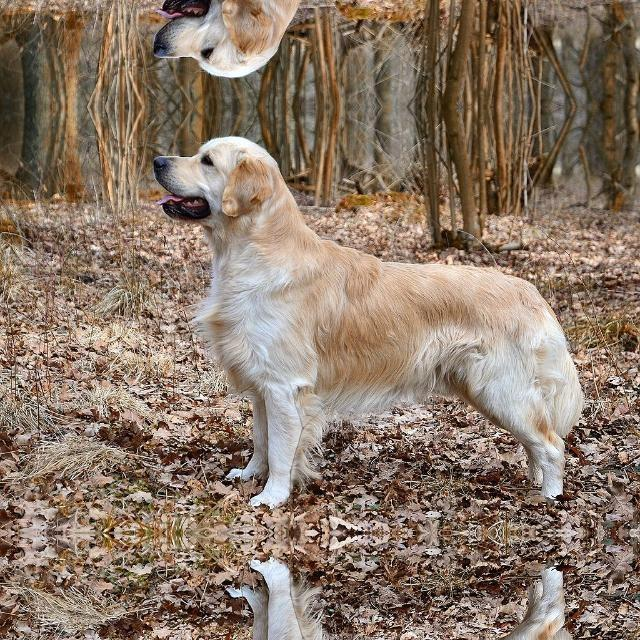dog: (150, 132, 604, 522), (150, 543, 604, 640), (150, 0, 604, 80)
